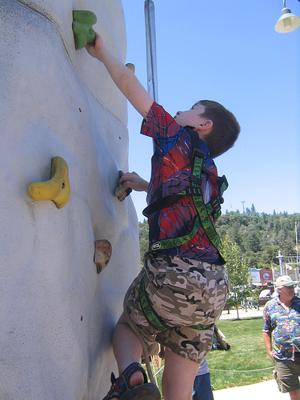person: (83, 28, 238, 400)
